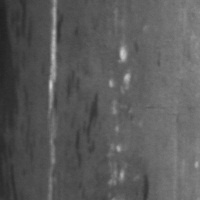inclusion: (0, 0, 29, 166), (70, 92, 102, 166)
scratches: (105, 43, 133, 188), (44, 1, 60, 194)
